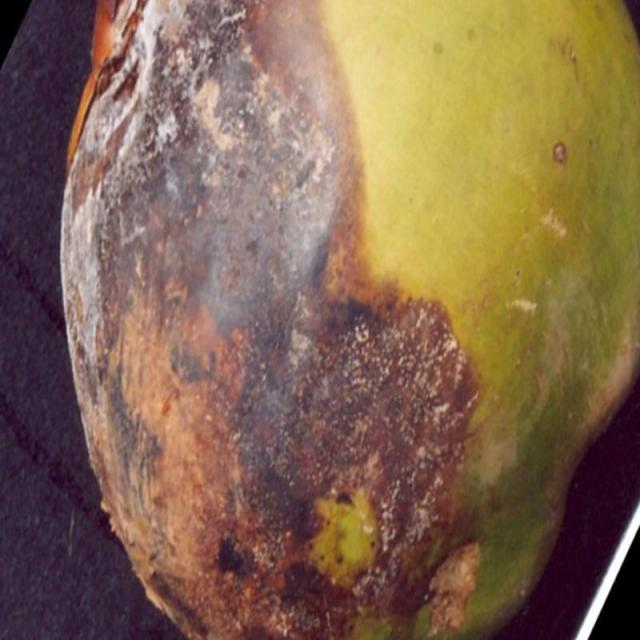damaged: (62, 0, 639, 639)
